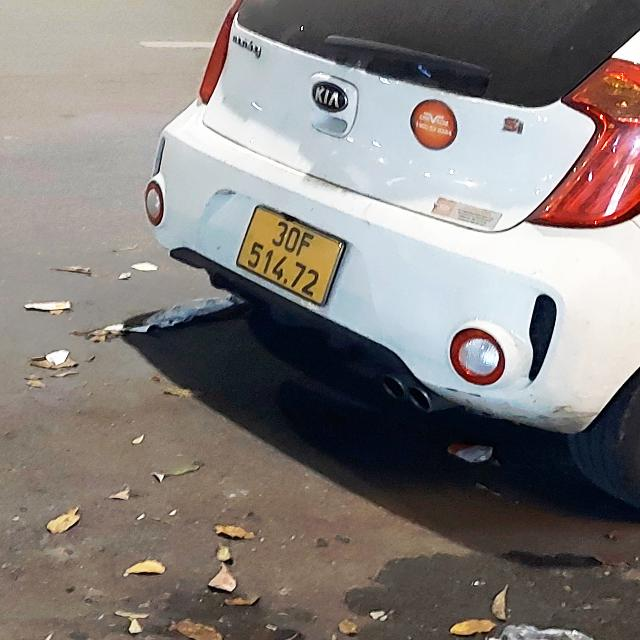license_plate: (236, 205, 345, 307)
